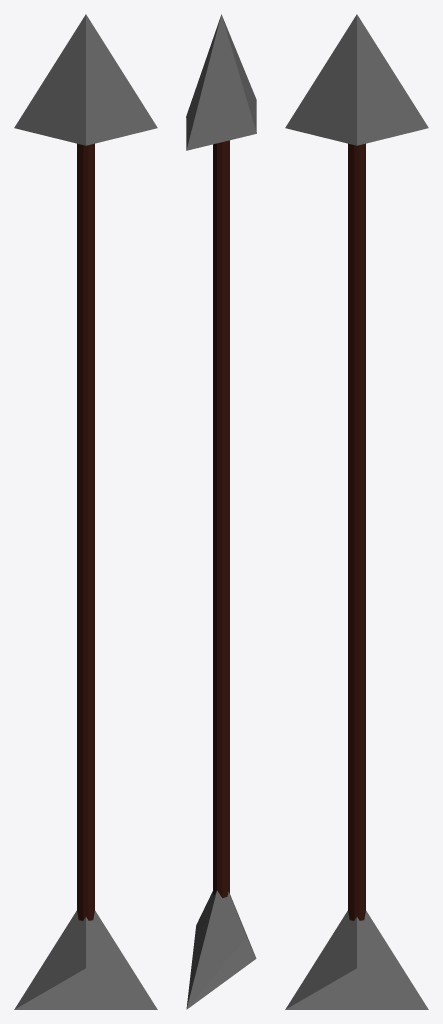
Rendered from arrow.fbx.
The picture shows the model from 3 angles, left to right: view 1: azimuth 90°, elevation 25°; view 2: azimuth 150°, elevation 25°; view 3: azimuth 270°, elevation 25°; orthographic projection. The views are drawn at different scales.
Parts seen in each view (by area): view 1: Cylinder; view 2: Cylinder; view 3: Cylinder.
Boxes of the visible parts, x1=… form: Cylinder: x1=14, y1=14, x2=157, y2=1009; Cylinder: x1=186, y1=14, x2=256, y2=1009; Cylinder: x1=285, y1=14, x2=428, y2=1009.
Bounding box in the file's own units: 18.63 × 244 × 32.
